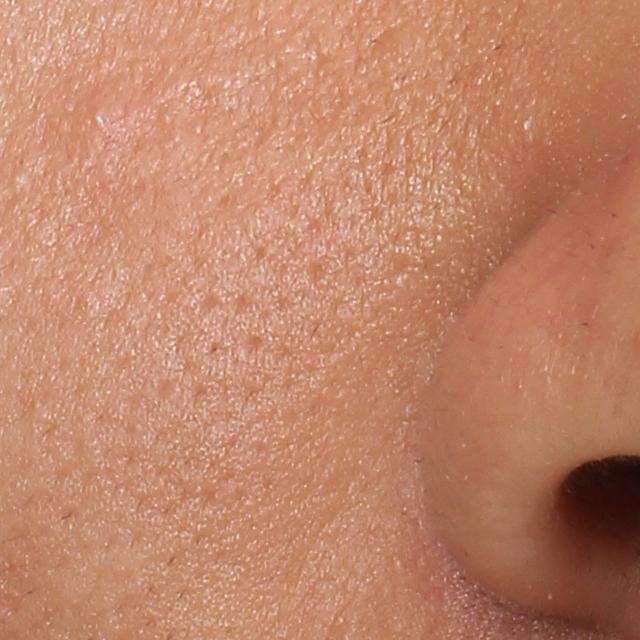comedo: (88, 102, 114, 128), (8, 169, 27, 189)
